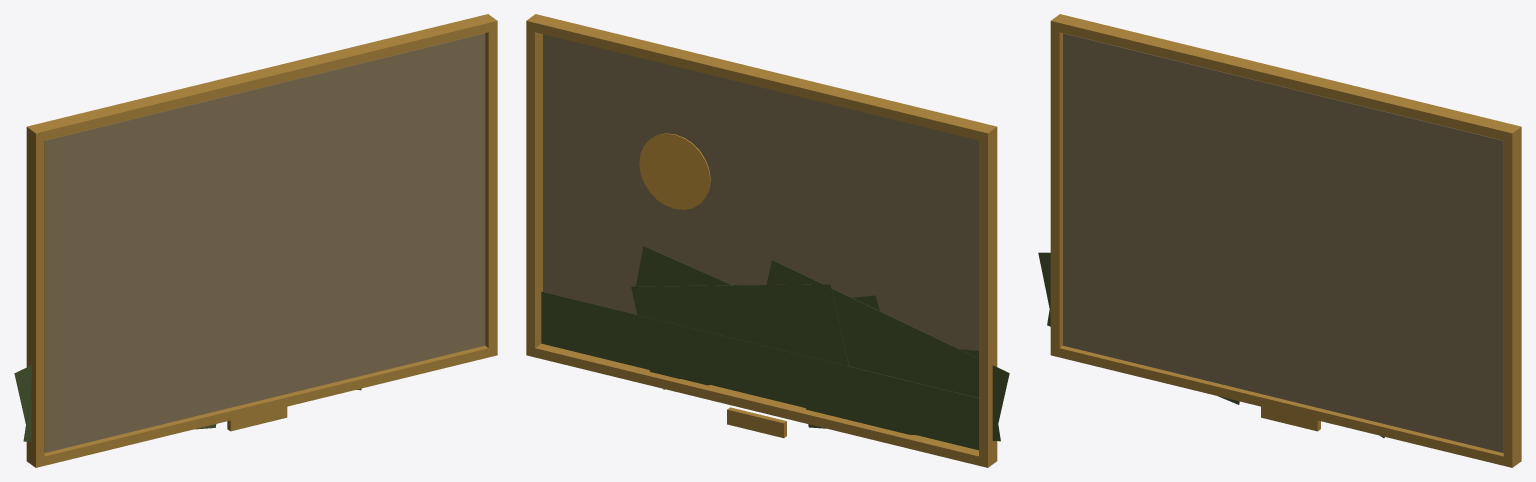
The model's file is SM_80s_Painting.glb.
3 renders of one model, left to right at view 1: azimuth 30°, elevation 25°; view 2: azimuth 150°, elevation 25°; view 3: azimuth 330°, elevation 25°, orthographic.
Parts seen in each view (by area): view 1: SM_80s_Painting; view 2: SM_80s_Painting; view 3: SM_80s_Painting.
Boxes of the visible parts, <box> form: SM_80s_Painting: <box>14,14,497,467</box>; SM_80s_Painting: <box>526,14,1009,467</box>; SM_80s_Painting: <box>1038,14,1521,467</box>.
Size of the model in its own units: 1.78 by 1.25 by 0.07.
